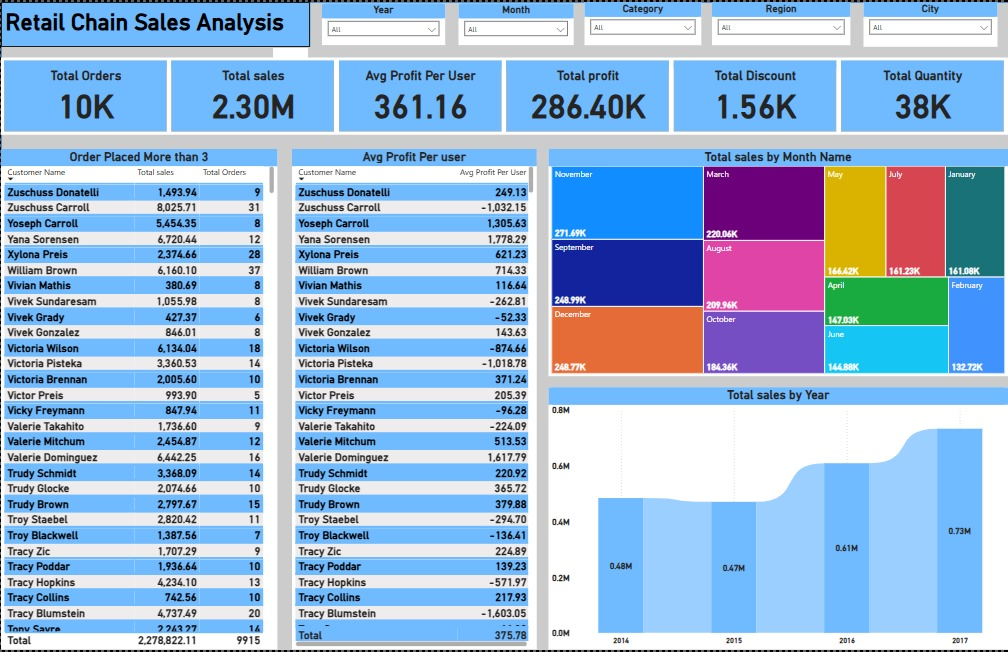

Layout of this report page (visuals, bound fields, positions):
{"tool":"powerbi","page":{"name":"Dashboard_2","canvas":[1680,1080],"ordinal":1},"visuals":[{"type":"shape","box":[0,0,1978.9,1600],"z":0},{"type":"shape","box":[0,0,515.4,74.4],"z":1000},{"type":"textbox","box":[2.6,5.1,512.8,61.5],"z":2000},{"type":"slicer","title":"Year","fields":{"Values":["Retails Order Full Dataset.Year"]},"box":[535.9,2.6,205.1,69.2],"z":3000},{"type":"slicer","title":"Month","fields":{"Values":["Retails Order Full Dataset.Month Name"]},"box":[761.5,2.6,192.3,69.2],"z":4000},{"type":"slicer","title":"Category","fields":{"Values":["Retails Order Full Dataset.Category"]},"box":[971.8,0,194.9,71.8],"z":5000},{"type":"slicer","title":"City","fields":{"Values":["Retails Order Full Dataset.City"]},"box":[1438.5,0,223.1,74.4],"z":6000},{"type":"slicer","title":"Region","fields":{"Values":["Retails Order Full Dataset.Region"]},"box":[1184.6,0,230.8,71.8],"z":7000},{"type":"cardVisual","fields":{"Data":["Retails Order Full Dataset.Total Orders","Retails Order Full Dataset.Total sales","Retails Order Full Dataset.Avg Profit Per User","Retails Order Full Dataset.Total profit","Retails Order Full Dataset.Total Discount","Retails Order Full Dataset.Total Quantity"]},"box":[0,92.9,1678.6,128.6],"z":8000},{"type":"treemap","fields":{"Group":["Retails Order Full Dataset.Month Name"],"Values":["Retails Order Full Dataset.Total sales"]},"box":[913.2,244.7,765.8,378.9],"z":9000},{"type":"tableEx","title":"Order Placed More than 3","fields":{"Values":["Retails Order Full Dataset.Customer Name","Retails Order Full Dataset.Total sales","Retails Order Full Dataset.Total Orders"]},"box":[0,244.7,460.5,834.2],"z":10000},{"type":"ribbonChart","fields":{"Category":["Retails Order Full Dataset.Year"],"Y":["Retails Order Full Dataset.Total sales"]},"box":[913.2,642.1,765.8,436.8],"z":11000},{"type":"tableEx","title":"Avg Profit Per user","fields":{"Values":["Retails Order Full Dataset.Customer Name","Retails Order Full Dataset.Avg Profit Per User"]},"box":[484.2,244.7,407.9,834.2],"z":12000}]}

Visuals, with their boxes in screenshot pixels (x1, y1, x2, y2), scaled from the page's 1680x1080 canvas onto the 1008x652 screenshot:
shape: 0/0/1007/651
shape: 0/0/309/45
textbox: 2/3/309/40
"Year" slicer: 322/2/445/43
"Month" slicer: 457/2/572/43
"Category" slicer: 583/0/700/43
"City" slicer: 863/0/997/45
"Region" slicer: 711/0/849/43
cardVisual - Retails Order Full Dataset.Total Orders x Retails Order Full Dataset.Total sales: 0/56/1007/134
treemap - Retails Order Full Dataset.Month Name x Retails Order Full Dataset.Total sales: 548/148/1007/376
"Order Placed More than 3" tableEx: 0/148/276/651
ribbonChart - Retails Order Full Dataset.Year x Retails Order Full Dataset.Total sales: 548/388/1007/651
"Avg Profit Per user" tableEx: 291/148/535/651
